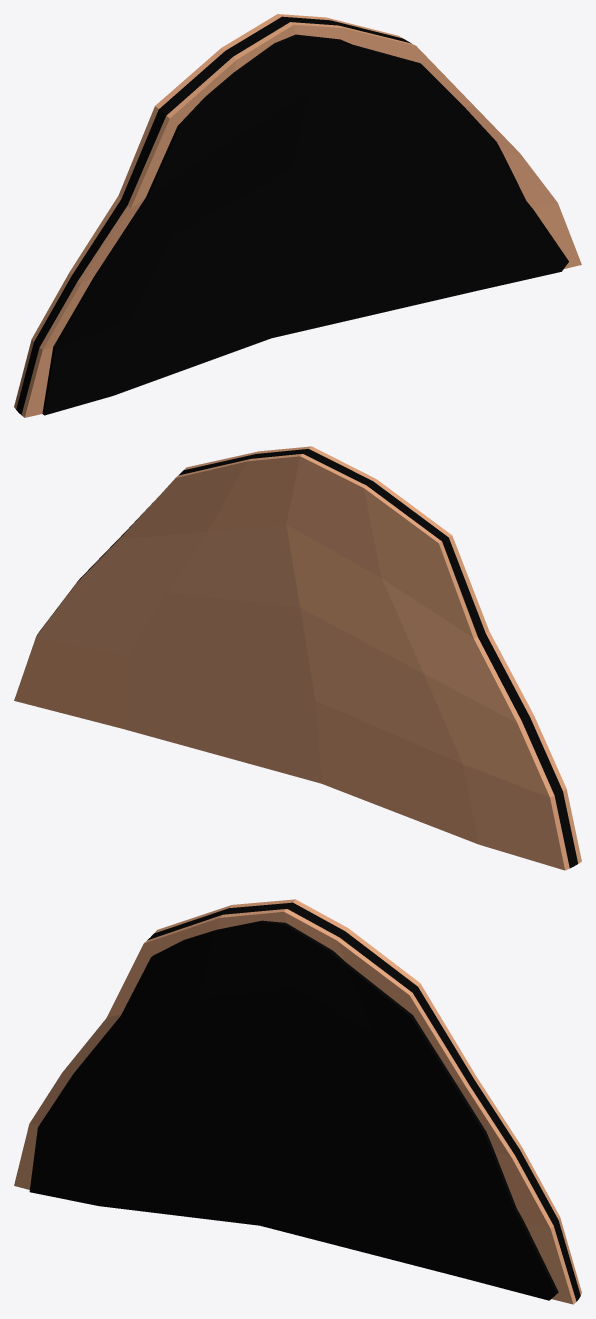
Rendered from CardboardBush02.fbx.
3 renders of one model, top to bottom at view 1: azimuth 30°, elevation 25°; view 2: azimuth 150°, elevation 25°; view 3: azimuth 330°, elevation 25°, orthographic. The views are drawn at different scales.
Visible parts, largest first — view 1: Cube.018; view 2: Cube.018; view 3: Cube.018.
Boxes of the visible parts, x1,y1,x2,y2 form: Cube.018: (14,14,581,417); Cube.018: (14,446,581,870); Cube.018: (14,899,581,1304).
Bounding box in the file's own units: 418 × 243 × 32.85.
